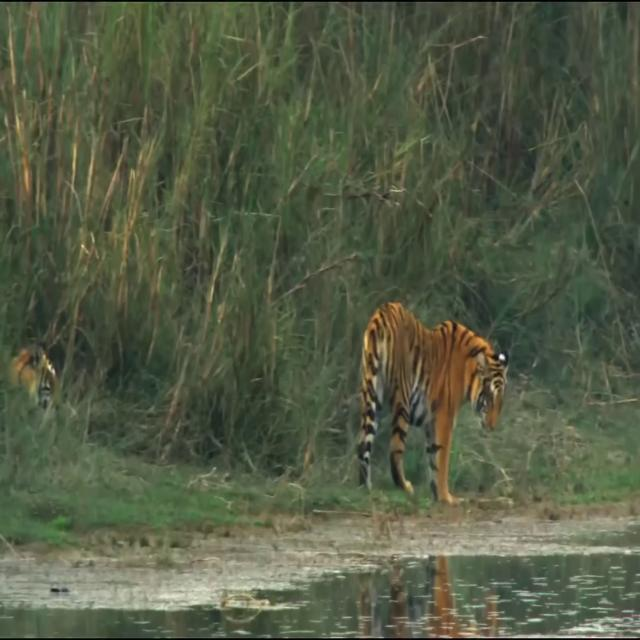tiger: (358, 301, 508, 505)
